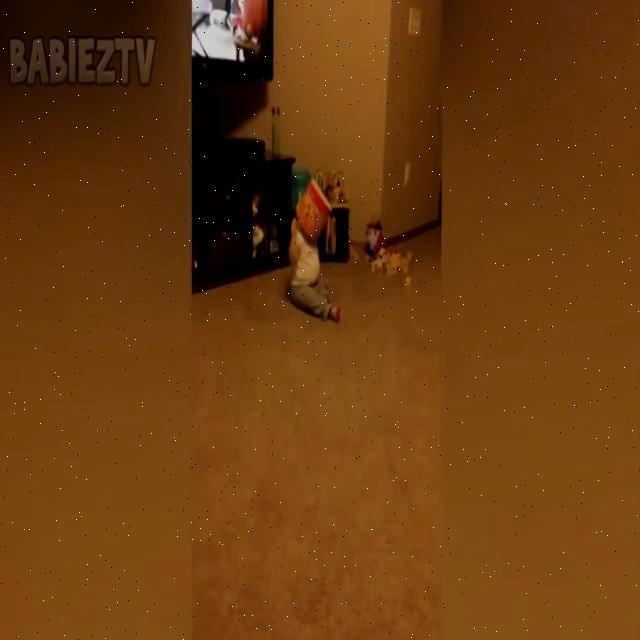child: (288, 182, 342, 323)
